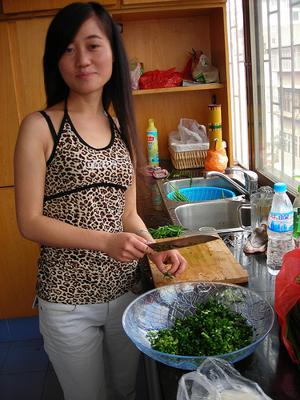person: (11, 1, 187, 400)
